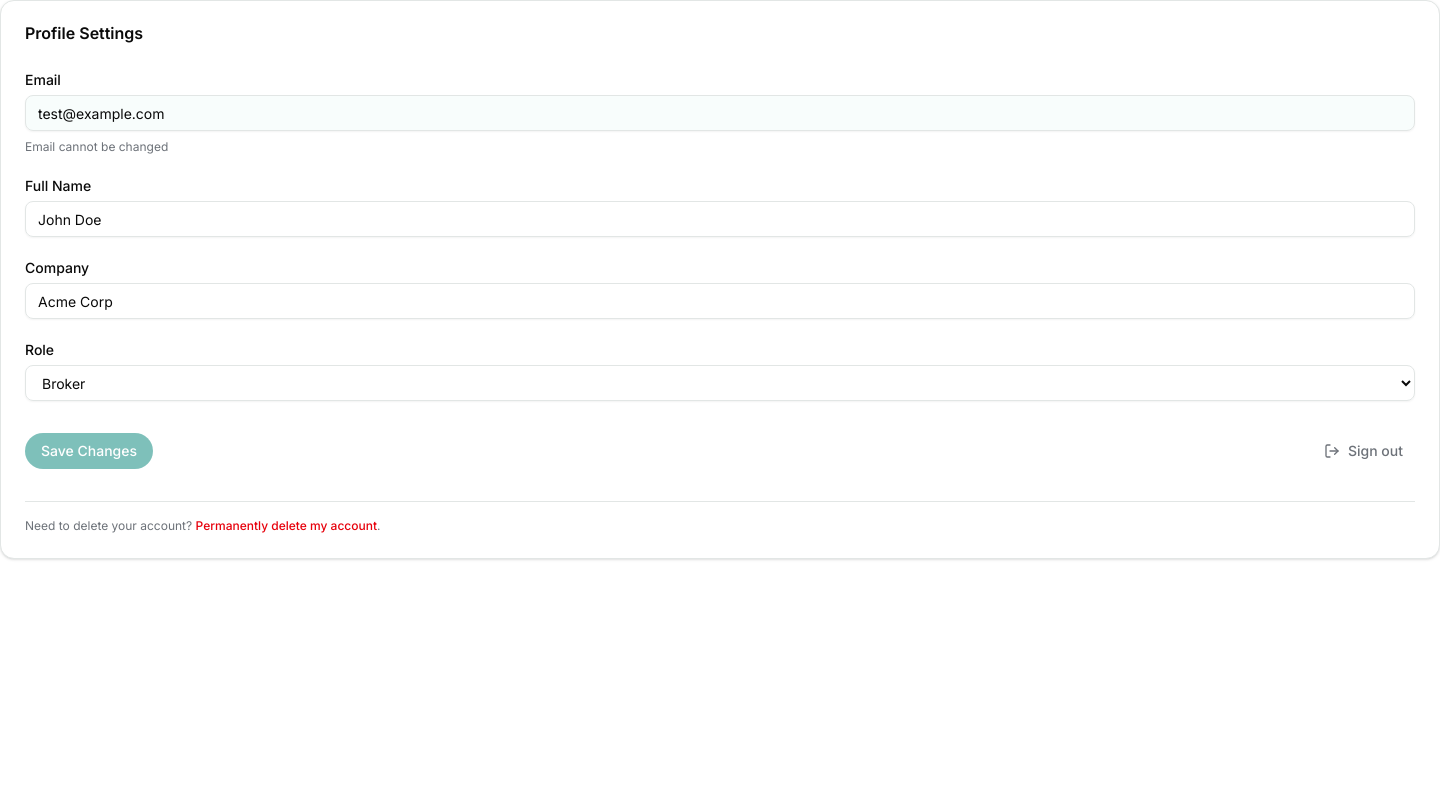
Test case: ProfileForm › opens a confirmation dialog when the delete-account link is clicked
Click the button with test id "delete-account-link" at (286, 526), box [196,518,377,534]
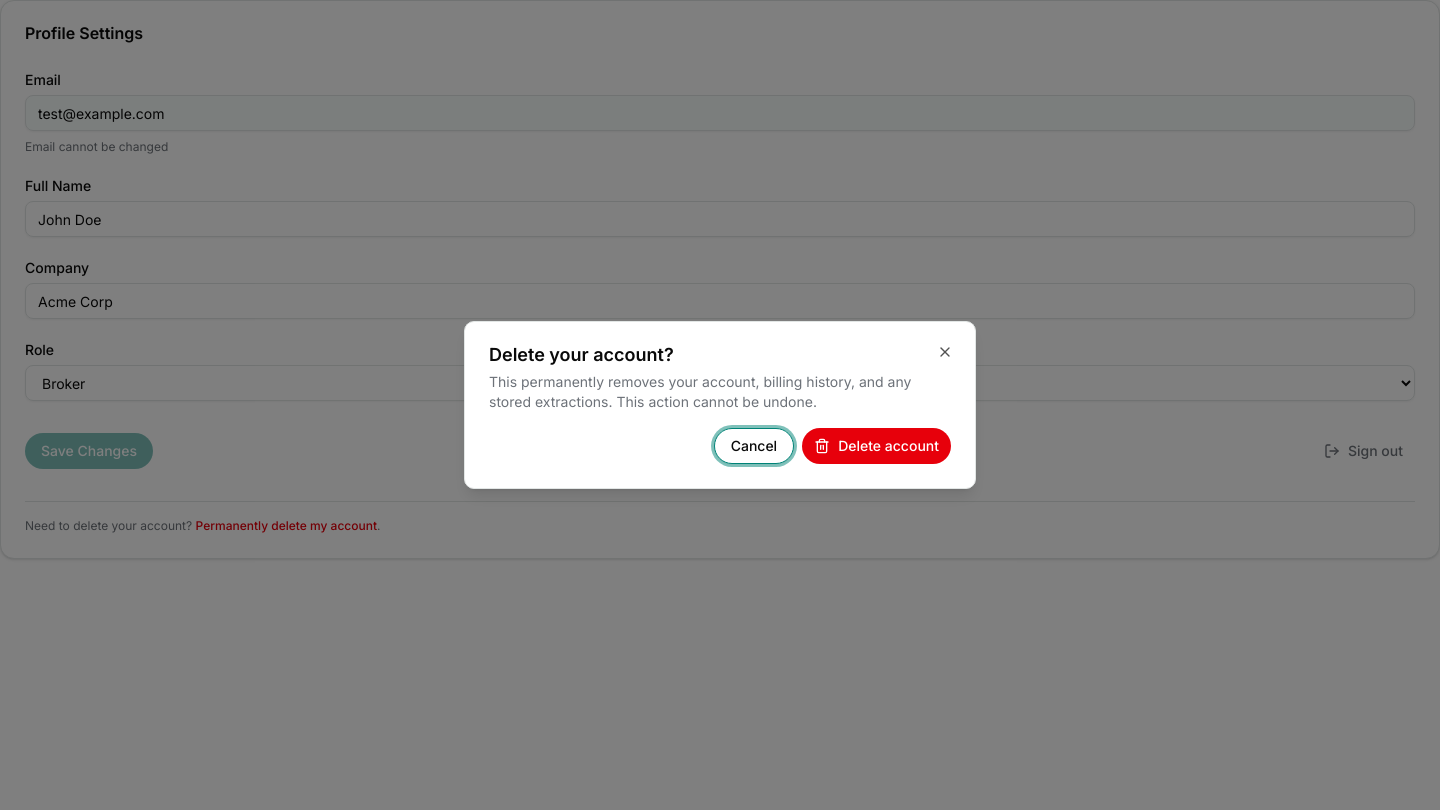
Check: the dialog with test id "delete-account-dialog" is shown, box [464,321,976,489]
Check: the text "permanently removes your account" is shown, box [489,373,911,410]
